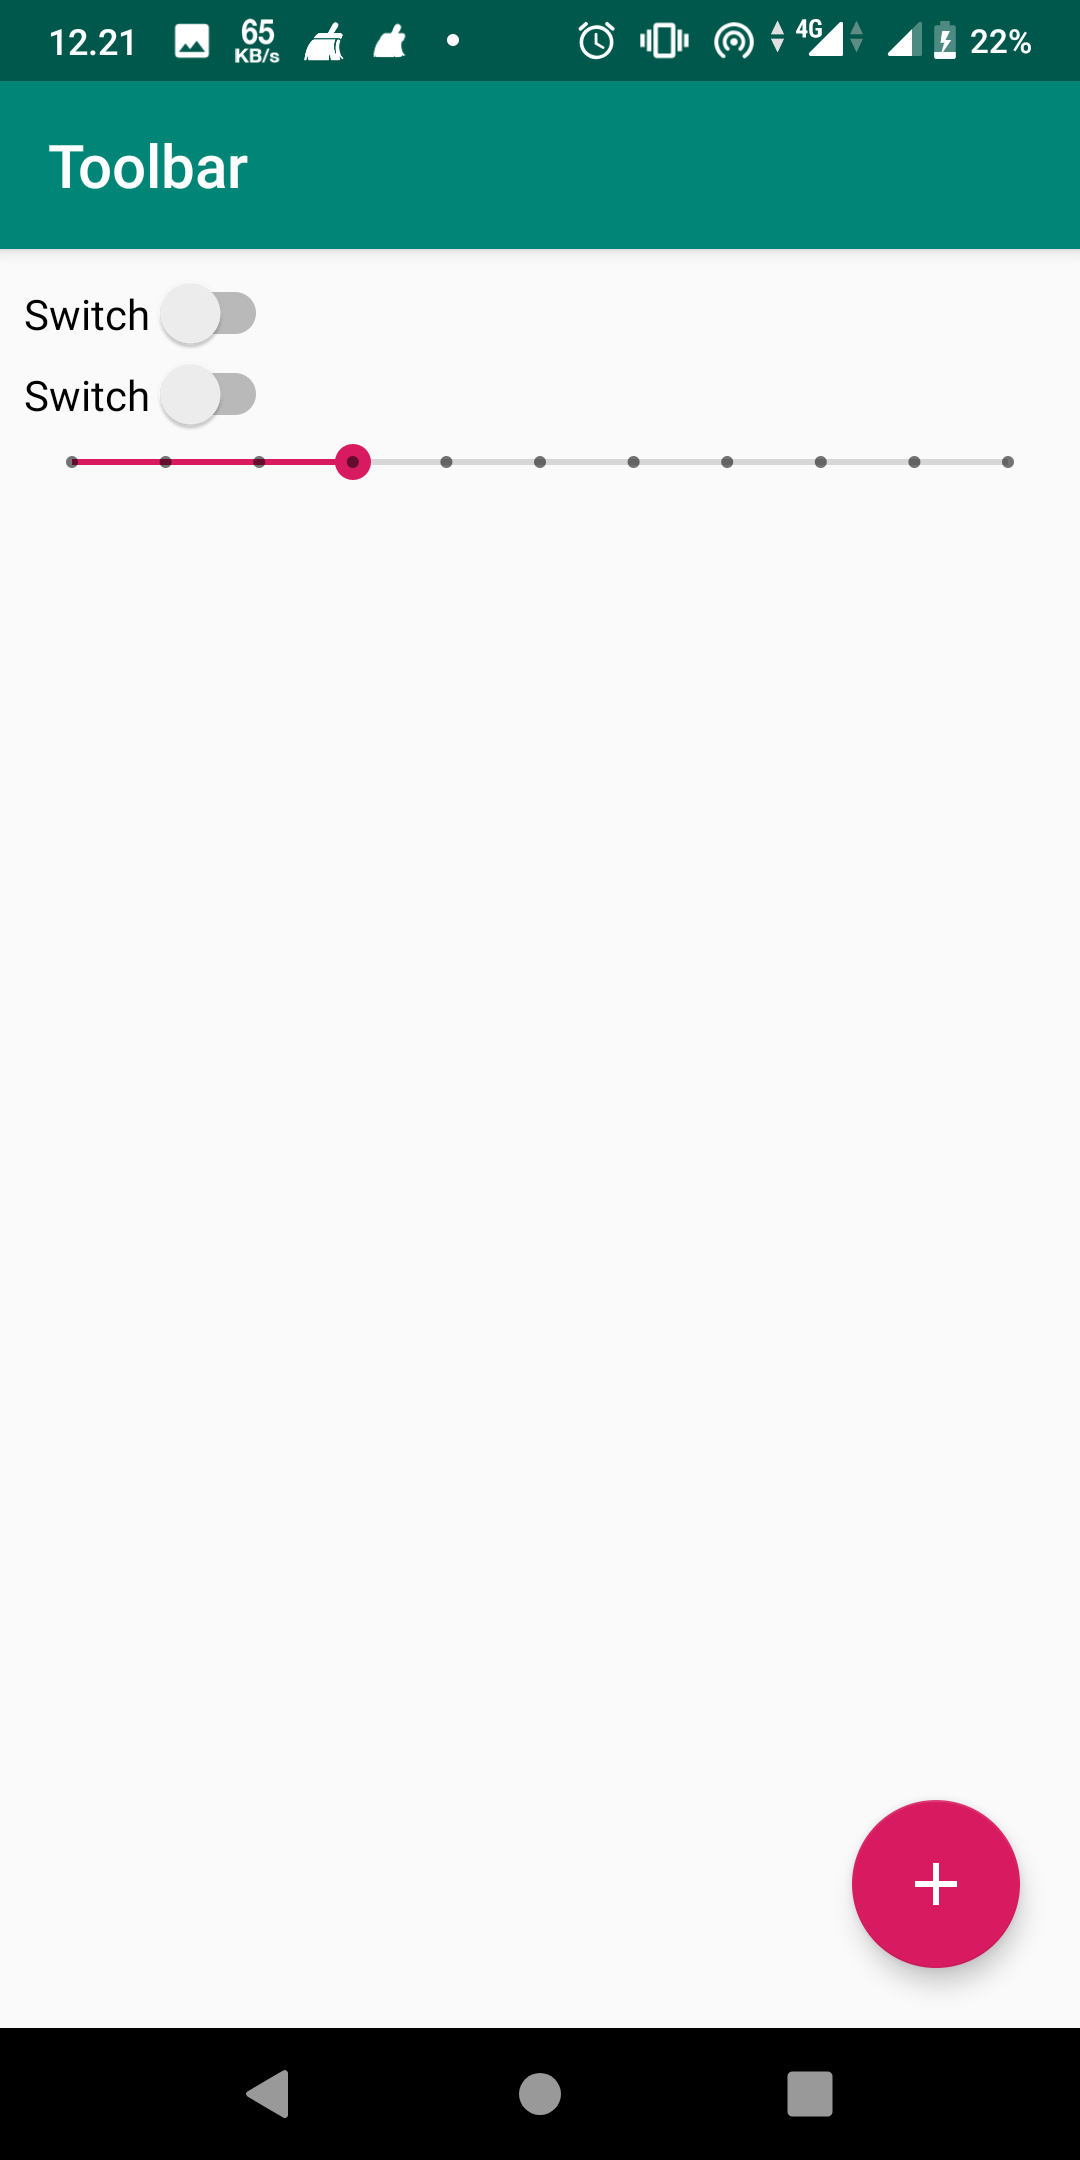floatingButton: (842, 1787, 1035, 1980)
slider: (61, 435, 1051, 493)
switch: (19, 366, 293, 428), (19, 291, 277, 344)
toolbar: (1, 79, 1077, 248)
